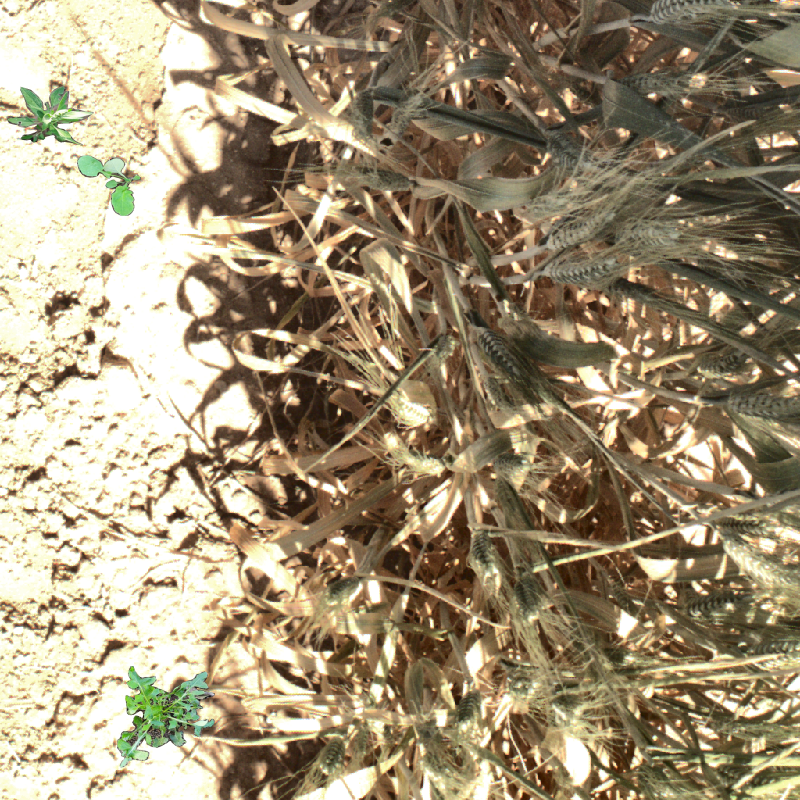spikelet: (720, 537, 799, 602), (575, 160, 673, 208), (378, 431, 447, 478), (543, 207, 613, 251), (704, 509, 800, 540), (475, 324, 524, 382), (723, 387, 800, 423), (719, 714, 798, 746), (622, 69, 709, 98), (540, 254, 621, 285), (314, 569, 368, 614), (467, 528, 504, 591), (616, 218, 682, 252), (645, 1, 728, 28), (414, 751, 459, 800), (385, 88, 428, 138), (735, 767, 800, 800), (386, 390, 435, 428), (512, 569, 547, 620), (692, 346, 748, 376), (458, 679, 484, 743), (314, 733, 349, 779), (758, 632, 799, 671), (423, 331, 457, 375), (364, 168, 413, 193)
weed: (117, 666, 215, 768), (7, 86, 94, 146), (77, 155, 141, 216)
